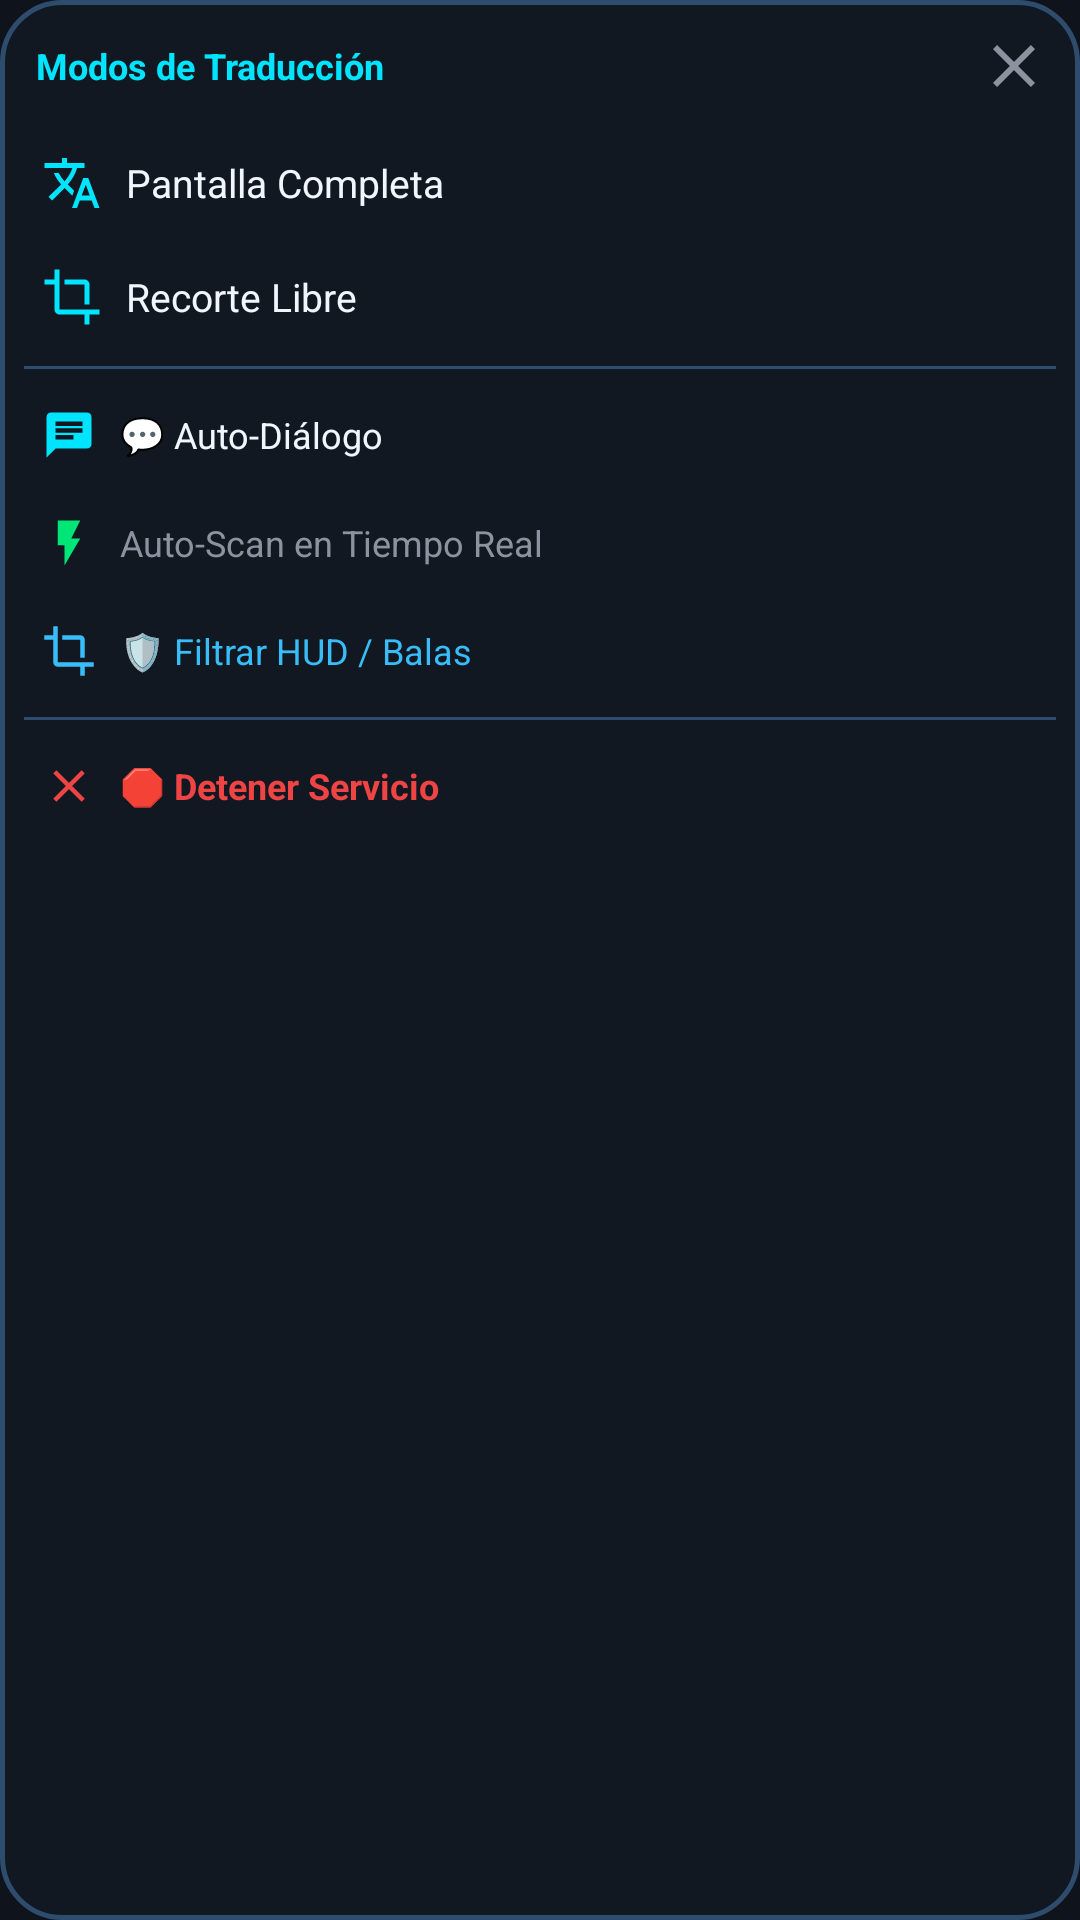

Screen size 1080×1920. Icon name, then its center in pixels as point (x, y):
Cerrar: point (1014, 66)
chat: point (69, 435)
crop: point (72, 297), point (69, 651)
realtime: point (68, 542)
translate: point (72, 183)
